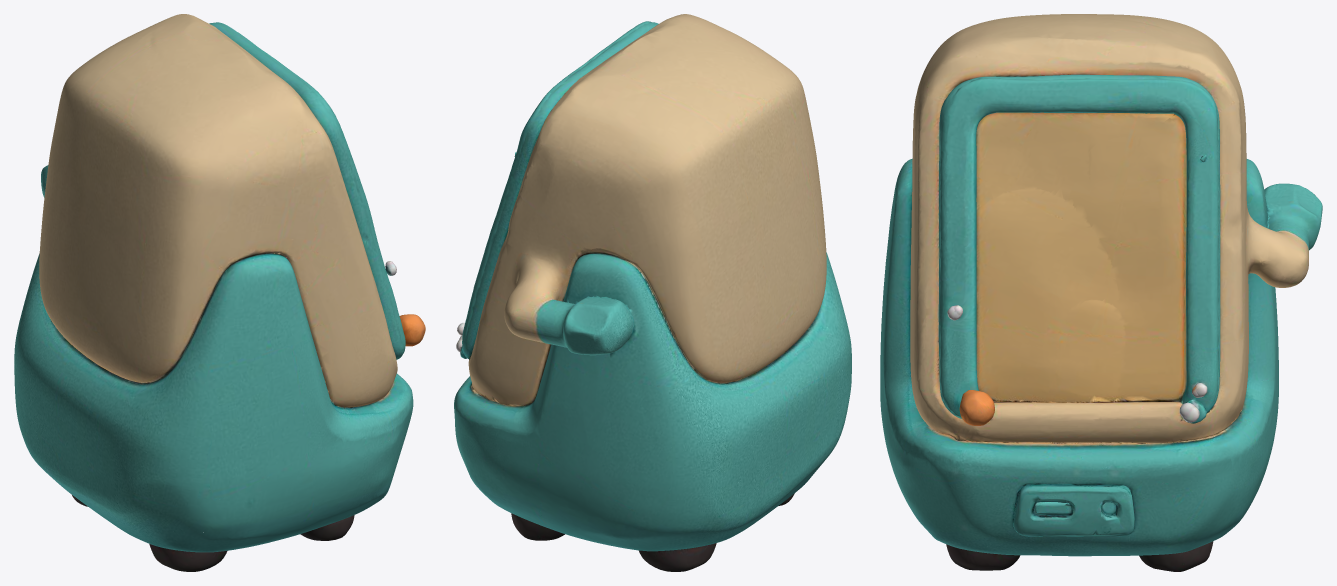
The model's file is env_nest_kiosk_info_01.glb.
3 views of the same model, side by side, from view 1: azimuth 30°, elevation 25°; view 2: azimuth 150°, elevation 25°; view 3: azimuth 270°, elevation 25° (orthographic). The views are drawn at different scales.
Visible parts, largest first — view 1: tripo_node_a82f5561-e536-4dfe-a422-59384319d780; view 2: tripo_node_a82f5561-e536-4dfe-a422-59384319d780; view 3: tripo_node_a82f5561-e536-4dfe-a422-59384319d780.
Boxes of the visible parts, x1=… form: tripo_node_a82f5561-e536-4dfe-a422-59384319d780: x1=14, y1=14, x2=425, y2=571; tripo_node_a82f5561-e536-4dfe-a422-59384319d780: x1=454, y1=14, x2=851, y2=571; tripo_node_a82f5561-e536-4dfe-a422-59384319d780: x1=880, y1=14, x2=1322, y2=571.
Bounding box in the file's own units: 1.53 × 2.2 × 1.77.
Materials: 1 (1 with a texture image).
